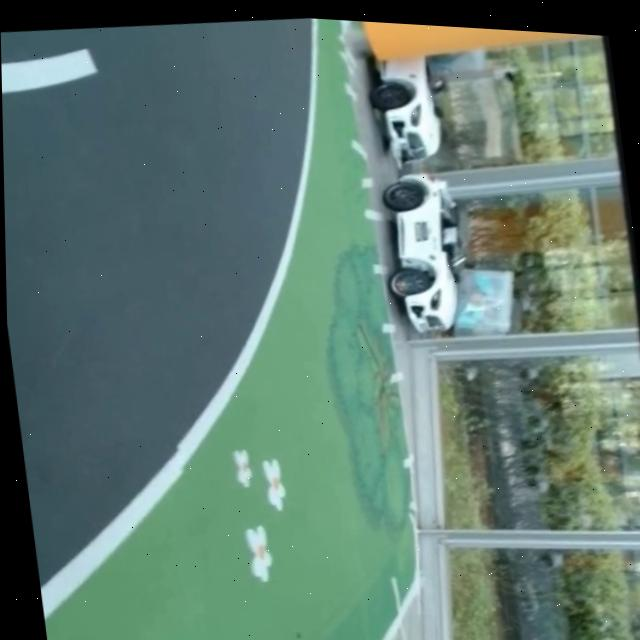traffic-light: (581, 34, 640, 386)
